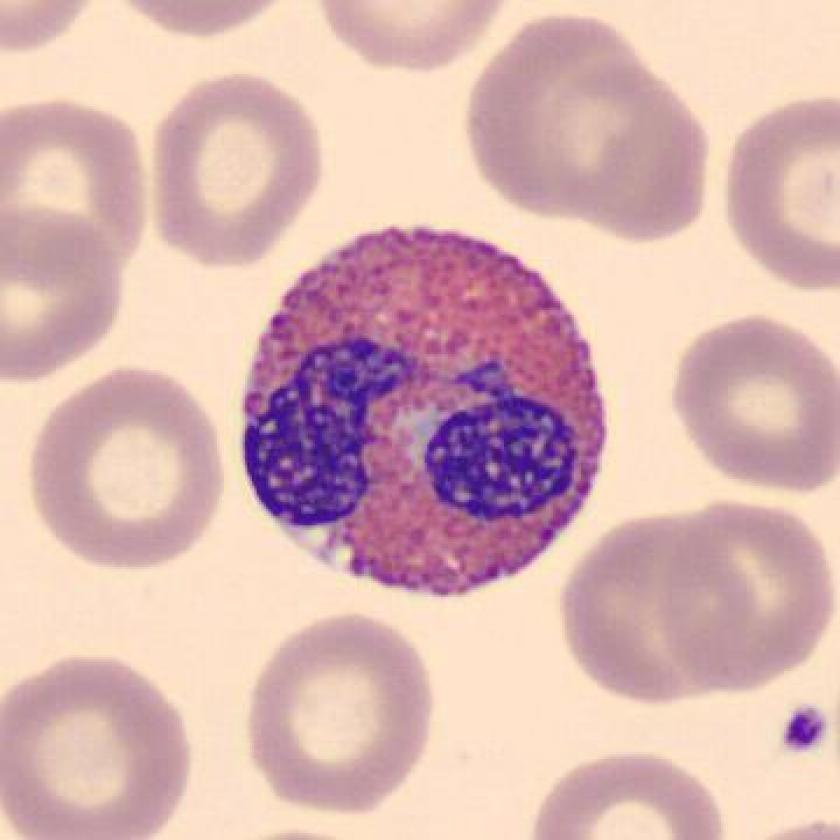eosinophil: (237, 210, 624, 608)
